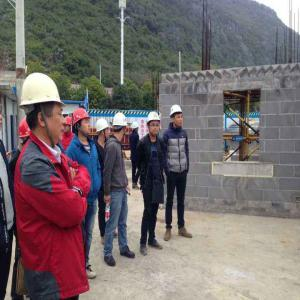red: (73, 106, 92, 137), (63, 115, 72, 134)
white: (20, 71, 66, 142), (112, 110, 128, 140), (170, 103, 185, 130), (147, 111, 161, 139), (96, 118, 112, 142), (131, 120, 140, 134)
